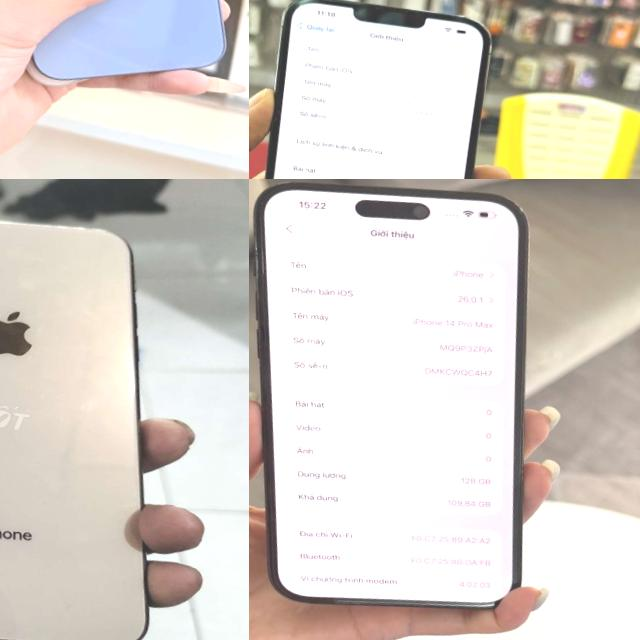gen_12_13: (249, 0, 502, 179)
gen_14: (249, 179, 577, 630), (0, 0, 249, 100)
gen_x_xs: (0, 222, 148, 640)
